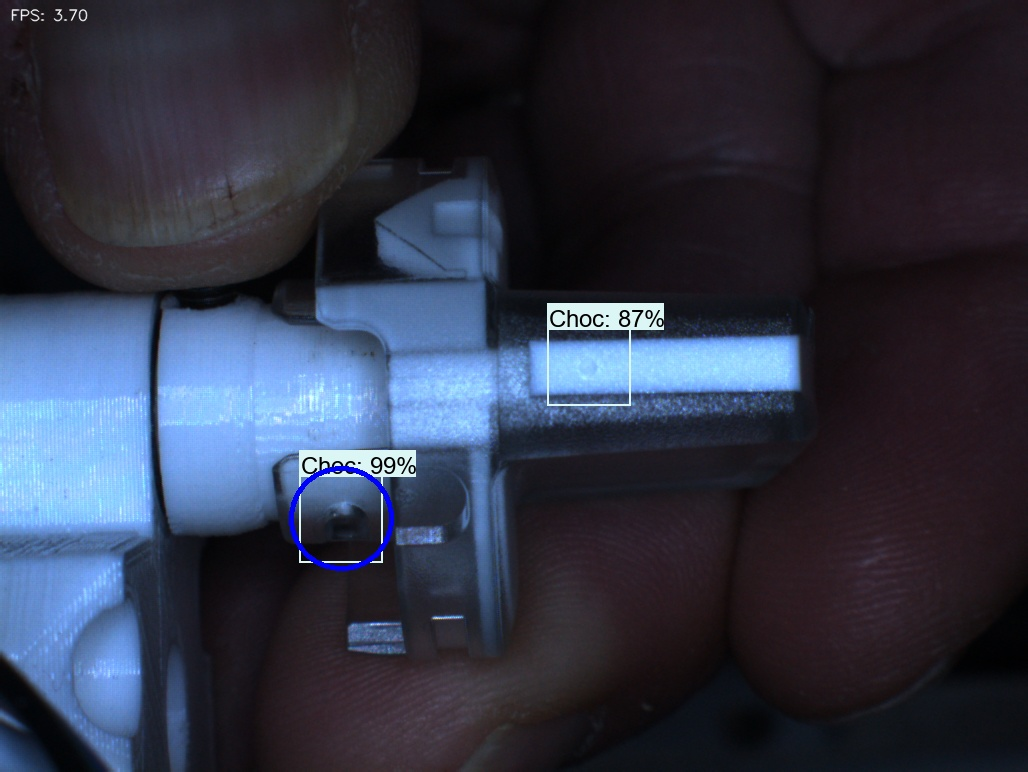DentOk: (344, 197, 424, 288)
